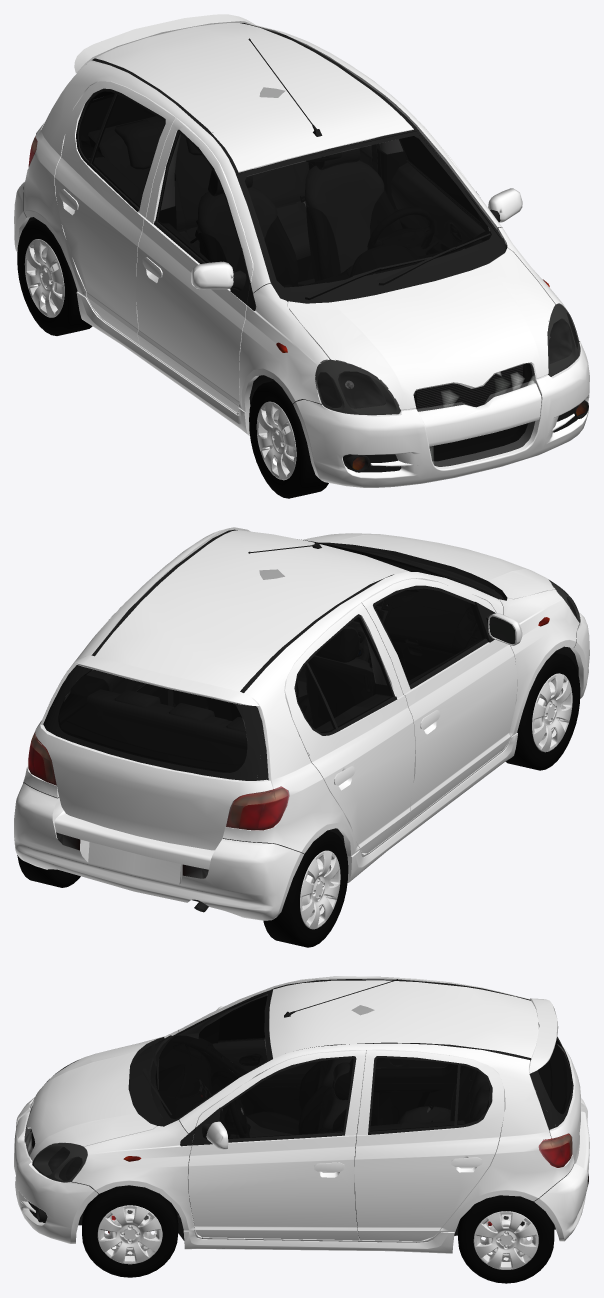
3 views of the same model, one above another, from view 1: azimuth 30°, elevation 25°; view 2: azimuth 150°, elevation 25°; view 3: azimuth 270°, elevation 25° (orthographic). The views are drawn at different scales.
Visible parts, largest first — view 1: body, glass, wheel_FL, wheel_RL, interior; view 2: body, glass, wheel_FL, wheel_RL; view 3: body, glass, wheel_RR, wheel_FR.
Boxes of the visible parts, left/top/right/bottom form: body: left=14, top=14, right=589, bottom=487; glass: left=28, top=91, right=586, bottom=469; wheel_FL: left=249, top=395, right=328, bottom=498; wheel_RL: left=17, top=225, right=70, bottom=331; interior: left=414, top=243, right=525, bottom=447; body: left=14, top=527, right=589, bottom=947; glass: left=28, top=539, right=580, bottom=828; wheel_FL: left=505, top=666, right=580, bottom=770; wheel_RL: left=293, top=837, right=348, bottom=943; body: left=14, top=976, right=589, bottom=1283; glass: left=24, top=994, right=572, bottom=1216; wheel_RR: left=462, top=1201, right=550, bottom=1280; wheel_FR: left=85, top=1200, right=174, bottom=1277.
Size of the model in its own units: 1.93 by 1.74 by 3.62.
